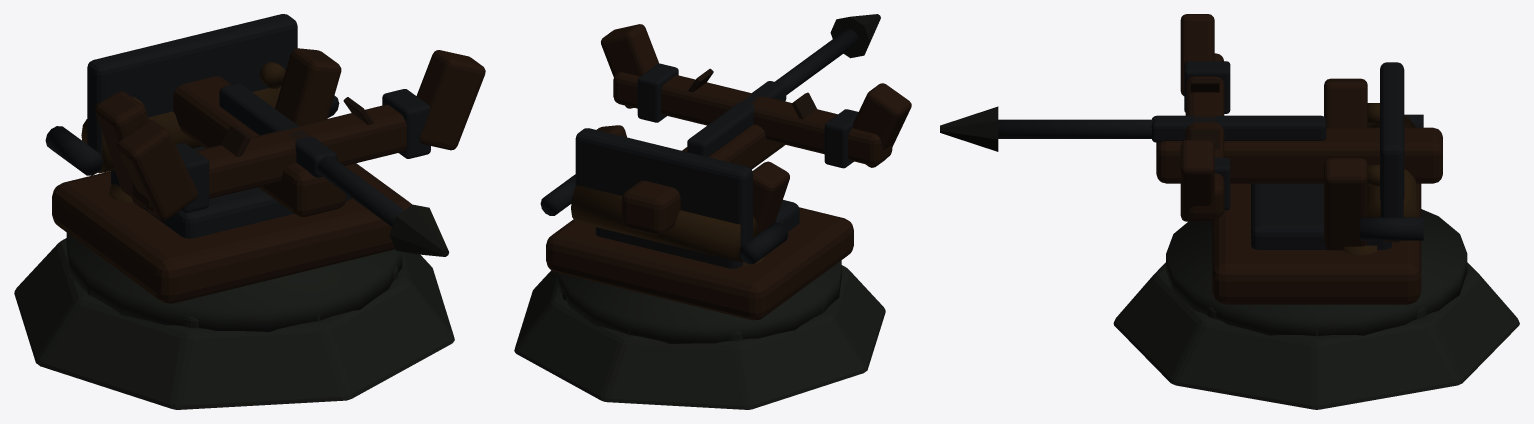
File: TowerSeed2_pose.obj
The picture shows the model from 3 angles, left to right: view 1: azimuth 30°, elevation 25°; view 2: azimuth 150°, elevation 25°; view 3: azimuth 270°, elevation 25°; orthographic projection. The views are drawn at different scales.
Visible parts, largest first — view 1: limestone_socket_lower_course, oak_bed, cut_stone_course, armoured_mantlet, oak_bow_crossbar, ballista_stock, bow_tip, bow_tip.001, oak_A_frame.001, iron_turntable, iron_guide, oak_A_frame (+8 smaller); view 2: limestone_socket_lower_course, oak_bed, cut_stone_course, armoured_mantlet, oak_bow_crossbar, bronze_windlass, ballista_stock, iron_guide, bow_tip, bow_tip.001, iron_turntable, oak_A_frame (+7 smaller); view 3: limestone_socket_lower_course, oak_bed, cut_stone_course, ballista_stock, iron_turntable, iron_guide, armoured_mantlet, oak_A_frame.001, iron_bolt, oak_bow_crossbar, bow_tip.001, oak_A_frame (+6 smaller).
Part boxes in pixels (x1,y1,x2,y2): limestone_socket_lower_course: (14,238,454,409); oak_bed: (52,163,412,303); cut_stone_course: (66,232,402,331); armoured_mantlet: (87,14,297,170); oak_bow_crossbar: (132,104,406,211); ballista_stock: (173,76,346,216); bow_tip: (117,120,197,220); bow_tip.001: (416,50,485,150); oak_A_frame.001: (275,48,341,125); iron_turntable: (111,146,351,238); iron_guide: (219,83,336,177); oak_A_frame: (95,91,149,208); limestone_socket_lower_course: (514,265,885,409); oak_bed: (546,207,853,320); cut_stone_course: (558,260,841,344); armoured_mantlet: (575,128,752,260); oak_bow_crossbar: (613,72,892,165); bronze_windlass: (571,184,757,262); ballista_stock: (621,124,785,235); iron_guide: (687,81,786,156); bow_tip: (853,83,911,167); bow_tip.001: (601,24,659,108); iron_turntable: (595,200,799,268); oak_A_frame: (752,161,789,234); limestone_socket_lower_course: (1113,262,1519,409); oak_bed: (1212,183,1421,304); cut_stone_course: (1166,209,1467,335); ballista_stock: (1156,127,1442,183); iron_turntable: (1251,183,1391,249); iron_guide: (1151,115,1326,142); armoured_mantlet: (1380,62,1404,217); oak_A_frame.001: (1324,158,1367,250); iron_bolt: (998,119,1153,138); oak_bow_crossbar: (1185,53,1224,218); bow_tip.001: (1180,140,1214,221); oak_A_frame: (1324,78,1367,127).
Size of the model in its own units: 1.67 by 1.12 by 2.39.
